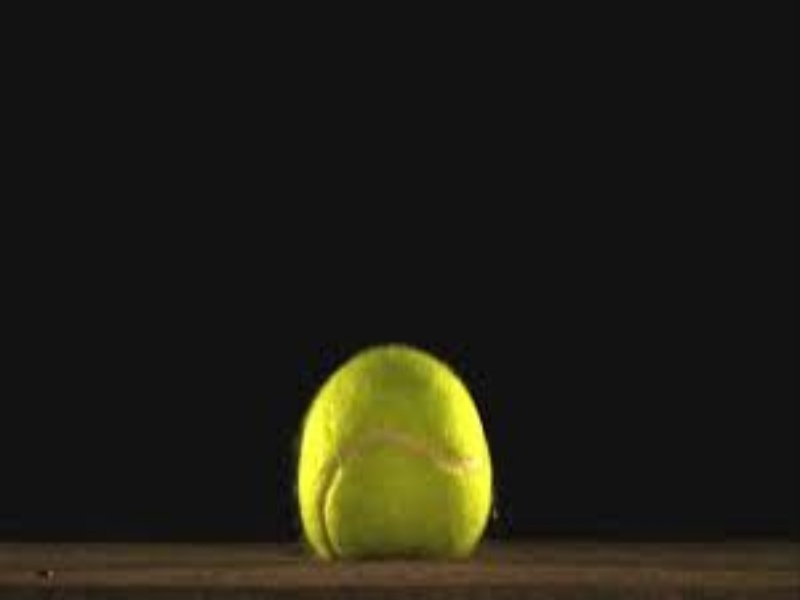tennis ball: (288, 336, 515, 576)
